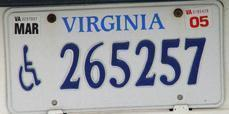placa de veiculo: (3, 9, 224, 104)
